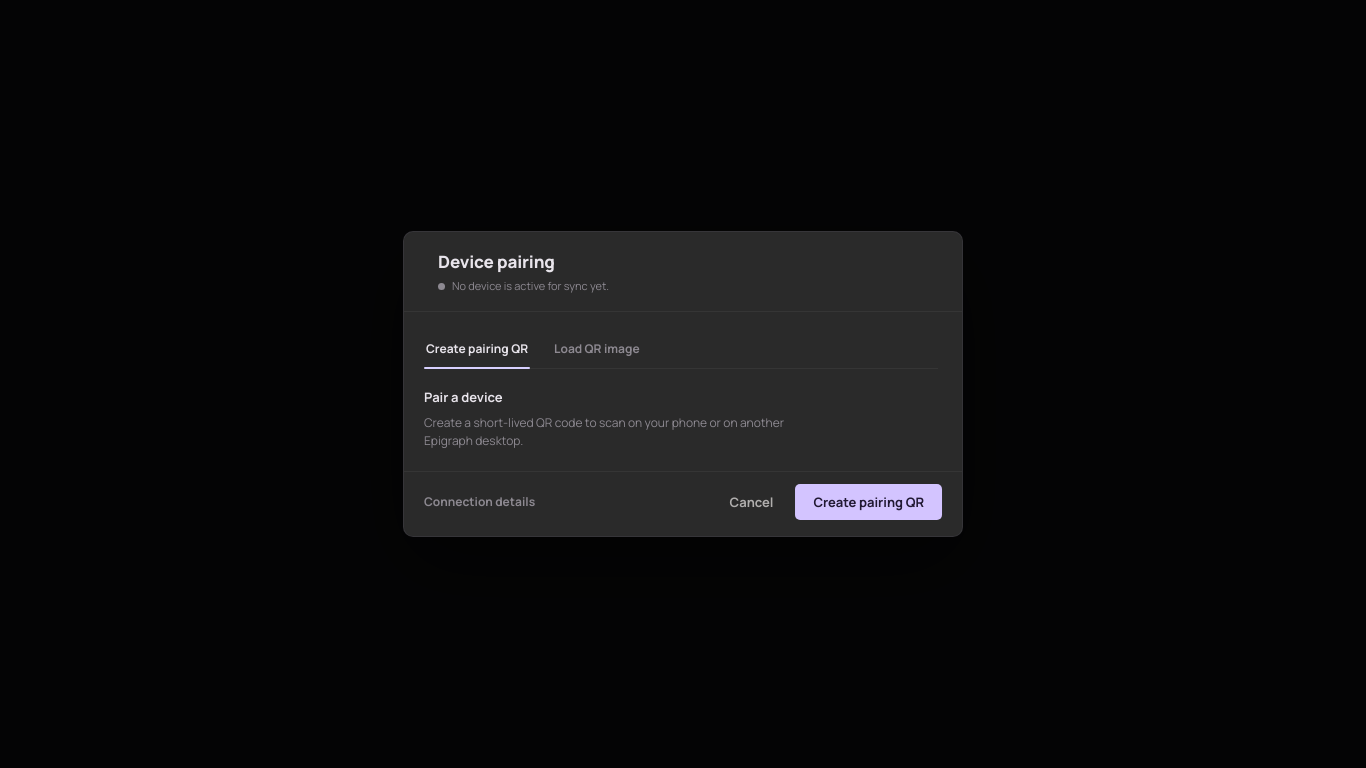
Test: SyncdConnectionPanel › releases the decision controls when the native decision times out
This screenshot has width=1366, height=768.
Click the button with test id "syncd-host-start": [869, 502] box [795, 484, 942, 520]
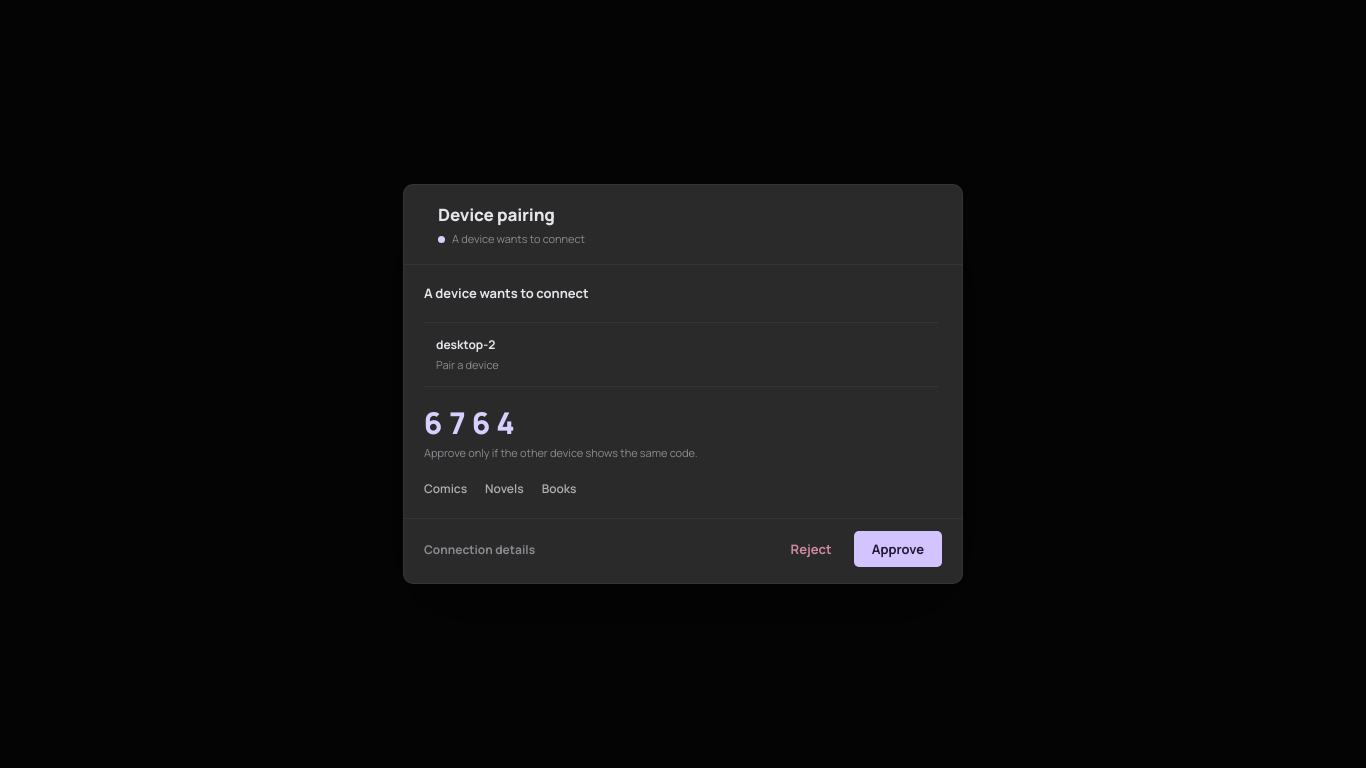
Click the button with test id "syncd-host-approve": [898, 549] box [854, 531, 942, 567]
Wait 10001 ms
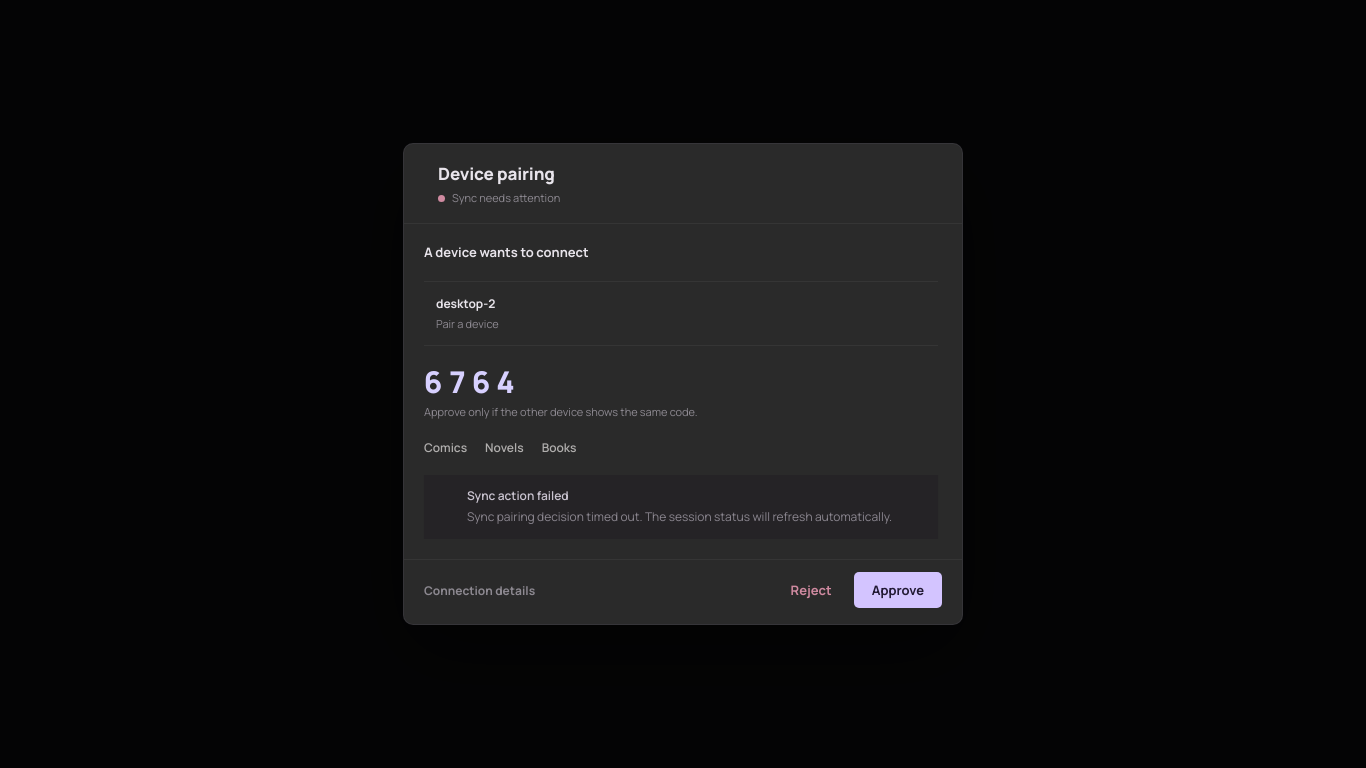
Now the button with test id "syncd-host-approve" is enabled, box [854, 572, 942, 608]
Now the text "decision timed out" is shown, box [467, 508, 892, 525]
